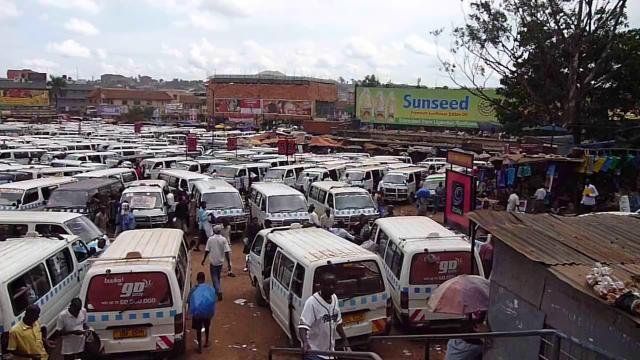van: (244, 221, 391, 346), (85, 228, 194, 360), (369, 217, 479, 332), (0, 231, 89, 352), (2, 208, 111, 268), (167, 174, 247, 238), (46, 174, 134, 225), (305, 180, 380, 230), (247, 181, 312, 233), (1, 176, 79, 212), (117, 181, 171, 231), (154, 167, 219, 206), (207, 161, 270, 193), (380, 166, 429, 203)
